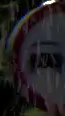No overtake: (6, 0, 64, 114)
